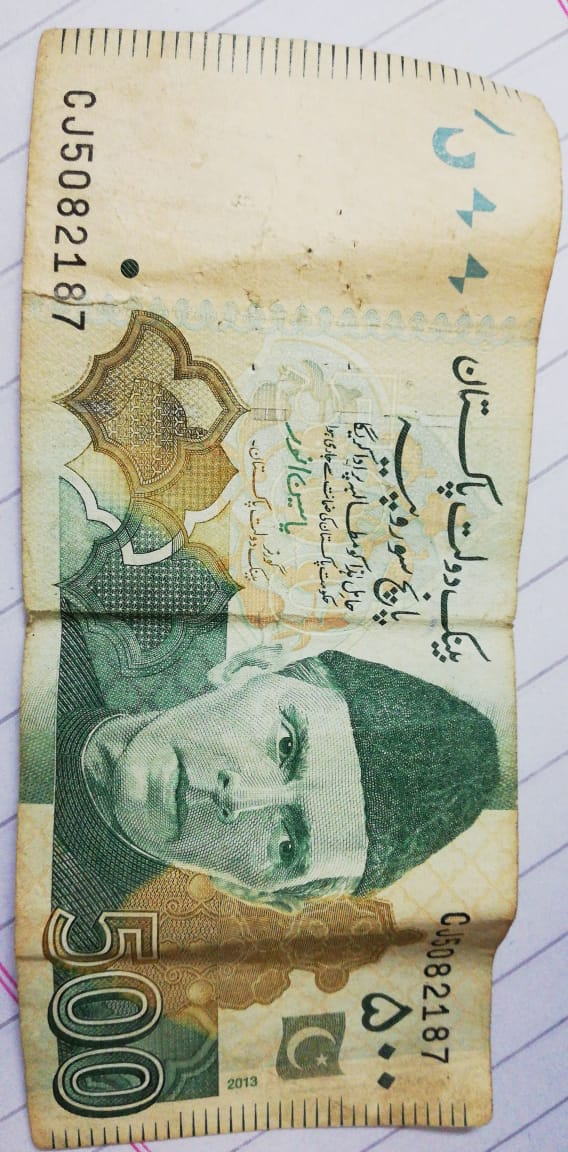500 rupee: (17, 20, 529, 1152)
